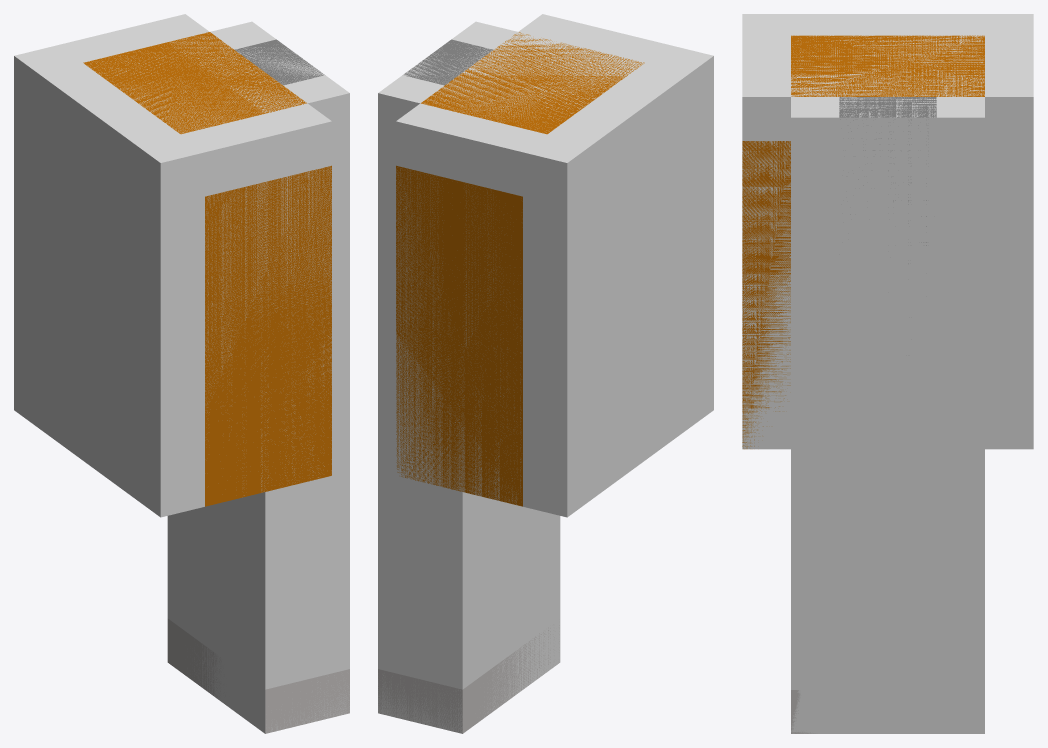
Rendered from Post3_B2_1_01.FBX.
3 views of the same model, side by side, from view 1: azimuth 30°, elevation 25°; view 2: azimuth 150°, elevation 25°; view 3: azimuth 270°, elevation 25° (orthographic).
Visible parts, largest first — view 1: Post3_B2_Damage_1_01, Post3_B2_Live_1_01; view 2: Post3_B2_Damage_1_01, Post3_B2_Live_1_01; view 3: Post3_B2_Damage_1_01, Post3_B2_Live_1_01.
Boxes of the visible parts, x1,y1,x2,y2 form: Post3_B2_Damage_1_01: [14, 14, 349, 733]; Post3_B2_Live_1_01: [83, 32, 349, 733]; Post3_B2_Damage_1_01: [378, 14, 713, 733]; Post3_B2_Live_1_01: [378, 32, 644, 733]; Post3_B2_Damage_1_01: [742, 14, 1033, 733]; Post3_B2_Live_1_01: [742, 35, 984, 733].
Bounding box in the file's own units: 0.7573 × 2.1 × 0.9.
